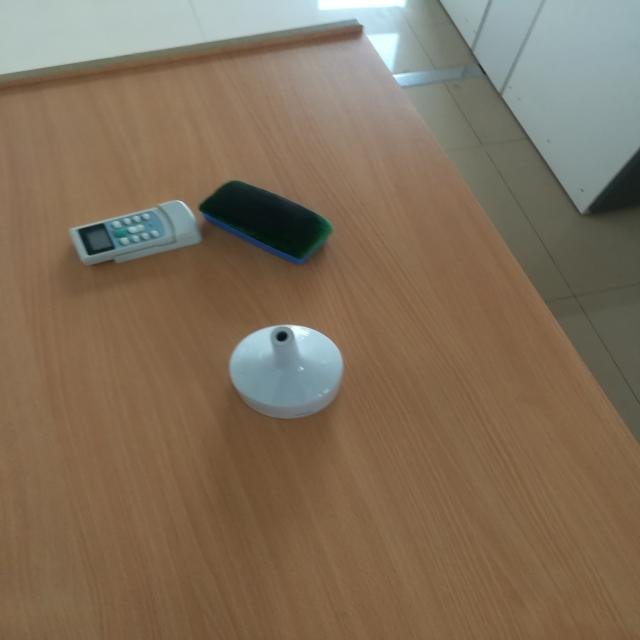Buchner_Funnel: (213, 288, 368, 460)
